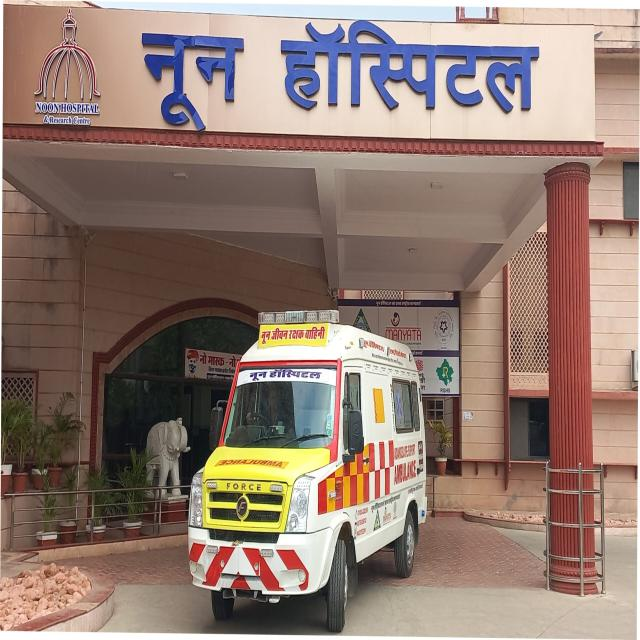emergency: (189, 312, 426, 633)
